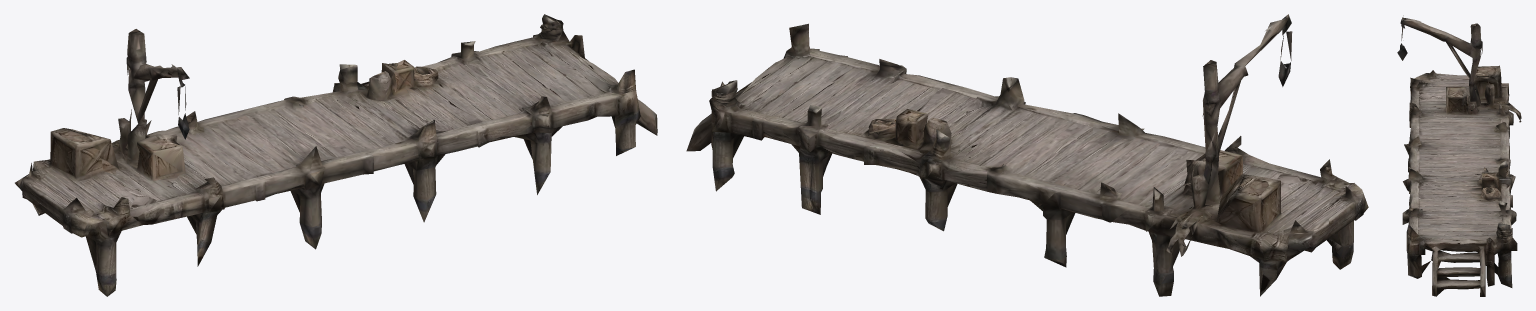
The model's file is jetty.glb.
3 views of the same model, side by side, from view 1: azimuth 30°, elevation 25°; view 2: azimuth 150°, elevation 25°; view 3: azimuth 270°, elevation 25° (orthographic). The views are drawn at different scales.
Parts seen in each view (by area): view 1: tripo_node_ae40e6d7-8f5c-406c-b4b2-5036989668ff; view 2: tripo_node_ae40e6d7-8f5c-406c-b4b2-5036989668ff; view 3: tripo_node_ae40e6d7-8f5c-406c-b4b2-5036989668ff.
Part boxes in pixels (x1,y1,x2,y2): tripo_node_ae40e6d7-8f5c-406c-b4b2-5036989668ff: [15, 14, 657, 296]; tripo_node_ae40e6d7-8f5c-406c-b4b2-5036989668ff: [686, 14, 1368, 296]; tripo_node_ae40e6d7-8f5c-406c-b4b2-5036989668ff: [1397, 15, 1521, 296].
Bounding box in the file's own units: 0.9734 × 0.3425 × 0.2825.
Materials: 1 (1 with a texture image).
